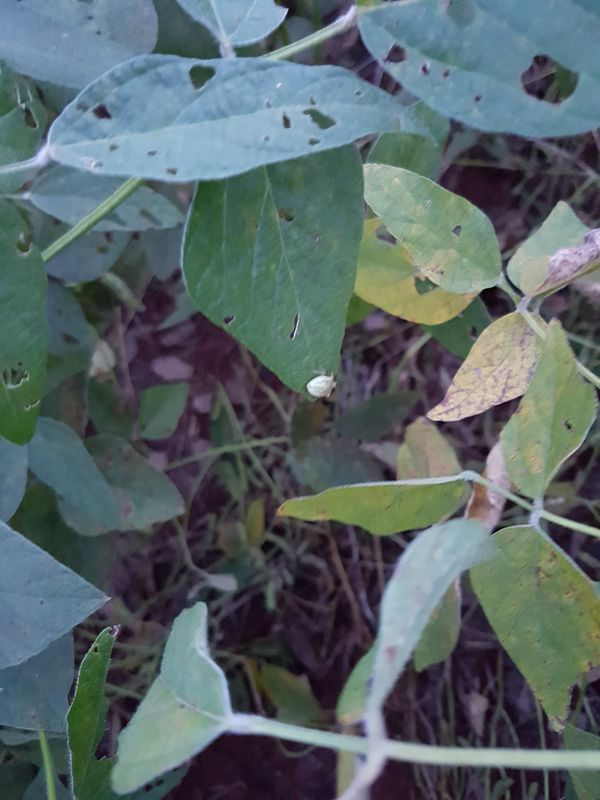Euschistus_heros_ninfa: (298, 364, 343, 408)
